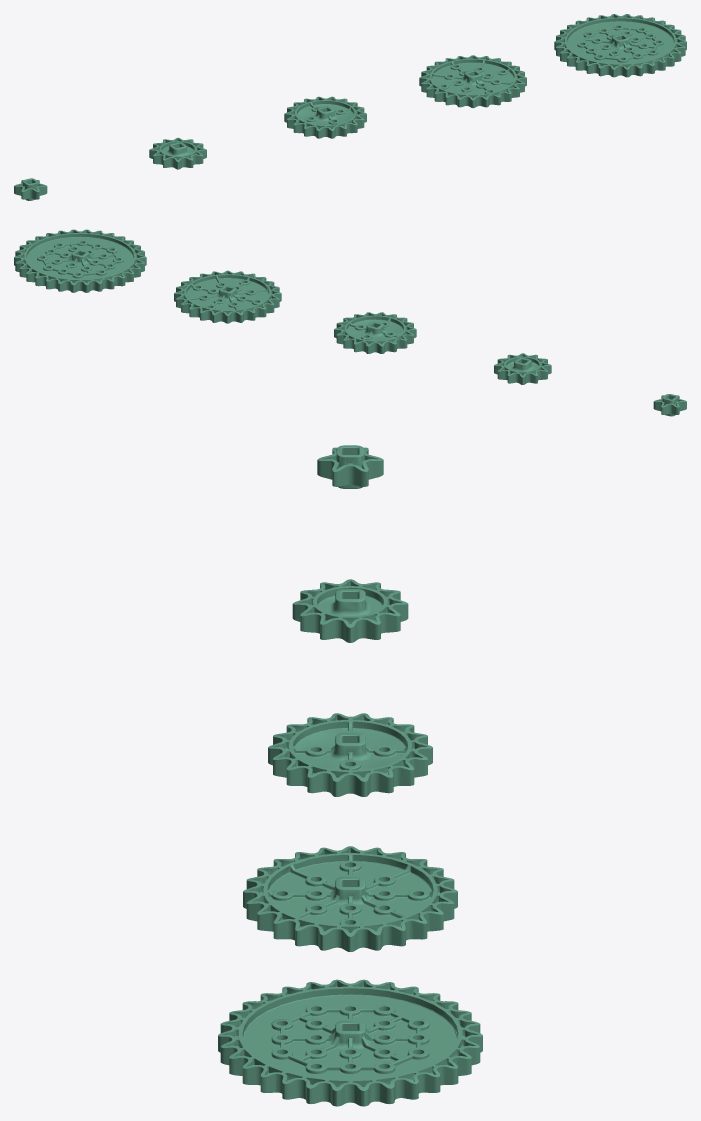
The model's file is HS Sprockets.fbx.
The picture shows the model from 3 angles, top to bottom: view 1: azimuth 30°, elevation 25°; view 2: azimuth 150°, elevation 25°; view 3: azimuth 270°, elevation 25°; orthographic projection. The views are drawn at different scales.
Parts seen in each view (by area): view 1: HSPK 30T, HSPK 24T, HSPK 18T, HSPK 12T, HSPK 6T; view 2: HSPK 30T, HSPK 24T, HSPK 18T, HSPK 12T, HSPK 6T; view 3: HSPK 30T, HSPK 24T, HSPK 18T, HSPK 12T, HSPK 6T.
Part boxes in pixels (bbox=[...]): HSPK 30T: bbox=[554, 14, 686, 77]; HSPK 24T: bbox=[419, 55, 526, 108]; HSPK 18T: bbox=[284, 96, 366, 138]; HSPK 12T: bbox=[149, 137, 206, 169]; HSPK 6T: bbox=[14, 178, 47, 200]; HSPK 30T: bbox=[14, 229, 146, 292]; HSPK 24T: bbox=[174, 270, 281, 323]; HSPK 18T: bbox=[334, 312, 416, 353]; HSPK 12T: bbox=[494, 353, 551, 384]; HSPK 6T: bbox=[653, 394, 686, 416]; HSPK 30T: bbox=[218, 979, 482, 1106]; HSPK 24T: bbox=[243, 846, 457, 951]; HSPK 18T: bbox=[268, 713, 432, 796]; HSPK 12T: bbox=[292, 579, 408, 642]; HSPK 6T: bbox=[317, 445, 383, 488].
Bounding box in the file's own units: 2236 × 52.5 × 389.
